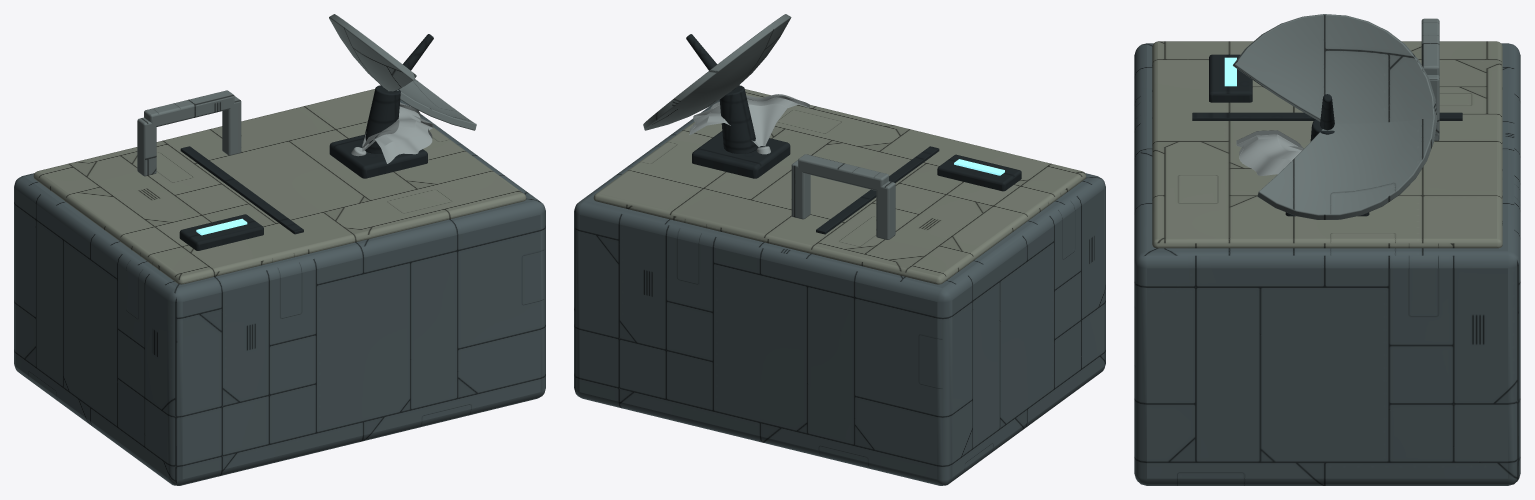
The model's file is borrowed_voice_a.glb.
The picture shows the model from 3 angles, left to right: view 1: azimuth 30°, elevation 25°; view 2: azimuth 150°, elevation 25°; view 3: azimuth 270°, elevation 25°; orthographic projection. The views are drawn at different scales.
Parts seen in each view (by area): view 1: LOD0_Hull, LOD0_Armor, LOD0_MechanicalDark, LOD0_MOTION_BORROWED_VOICE_RECEIVER_BrushedMetal, LOD0_BrushedMetal, LOD0_MOTION_BORROWED_VOICE_RECEIVER_Stone, LOD0_MOTION_BORROWED_VOICE_RECEIVER_MechanicalDark; view 2: LOD0_Hull, LOD0_Armor, LOD0_MechanicalDark, LOD0_MOTION_BORROWED_VOICE_RECEIVER_BrushedMetal, LOD0_BrushedMetal, LOD0_MOTION_BORROWED_VOICE_RECEIVER_MechanicalDark, LOD0_MOTION_BORROWED_VOICE_RECEIVER_Stone; view 3: LOD0_Hull, LOD0_Armor, LOD0_MOTION_BORROWED_VOICE_RECEIVER_BrushedMetal, LOD0_MechanicalDark, LOD0_MOTION_BORROWED_VOICE_RECEIVER_Stone, LOD0_BrushedMetal, LOD0_MOTION_BORROWED_VOICE_RECEIVER_MechanicalDark.
Part boxes in pixels (x1,y1,x2,y2): LOD0_Hull: (14,100,545,485); LOD0_Armor: (33,89,526,284); LOD0_MechanicalDark: (179,134,427,250); LOD0_MOTION_BORROWED_VOICE_RECEIVER_BrushedMetal: (329,14,476,130); LOD0_BrushedMetal: (137,90,241,176); LOD0_MOTION_BORROWED_VOICE_RECEIVER_Stone: (351,102,433,163); LOD0_MOTION_BORROWED_VOICE_RECEIVER_MechanicalDark: (362,34,433,153); LOD0_Hull: (574,100,1105,485); LOD0_Armor: (593,89,1086,284); LOD0_MechanicalDark: (692,131,1021,234); LOD0_MOTION_BORROWED_VOICE_RECEIVER_BrushedMetal: (643,14,791,130); LOD0_BrushedMetal: (791,154,895,239); LOD0_MOTION_BORROWED_VOICE_RECEIVER_MechanicalDark: (686,34,757,153); LOD0_MOTION_BORROWED_VOICE_RECEIVER_Stone: (689,94,809,154); LOD0_Hull: (1134,43,1520,485); LOD0_Armor: (1152,41,1502,248); LOD0_MOTION_BORROWED_VOICE_RECEIVER_BrushedMetal: (1233,14,1437,219); LOD0_MechanicalDark: (1192,54,1462,216); LOD0_MOTION_BORROWED_VOICE_RECEIVER_Stone: (1236,130,1303,175); LOD0_BrushedMetal: (1421,18,1439,140); LOD0_MOTION_BORROWED_VOICE_RECEIVER_MechanicalDark: (1310,94,1334,141).
Size of what is drawn, in the model's own units: 4 by 3.49 by 3.
6 materials, 4 textured.
